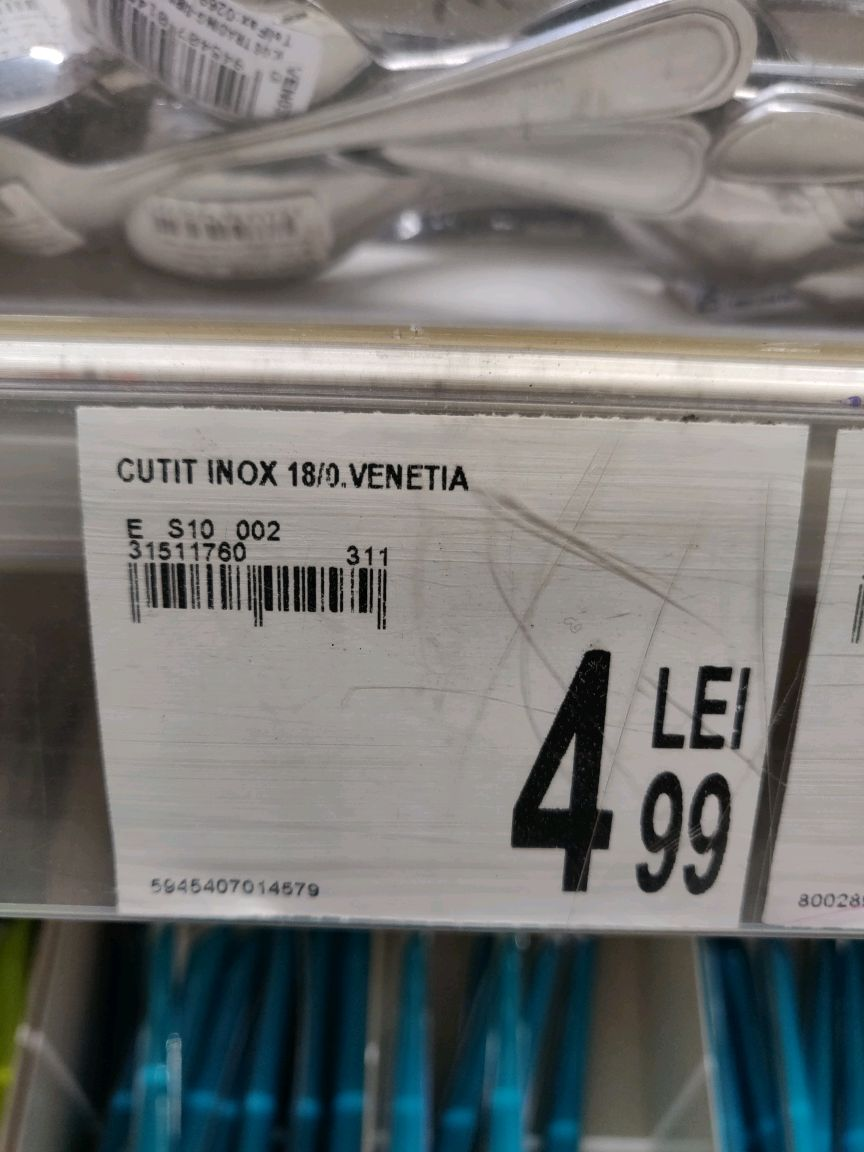price_bani: (623, 765, 742, 917)
price_lei: (500, 640, 631, 907)
price_tag: (59, 393, 799, 968)
product_id: (138, 862, 357, 909)
product_name: (100, 430, 493, 499)
